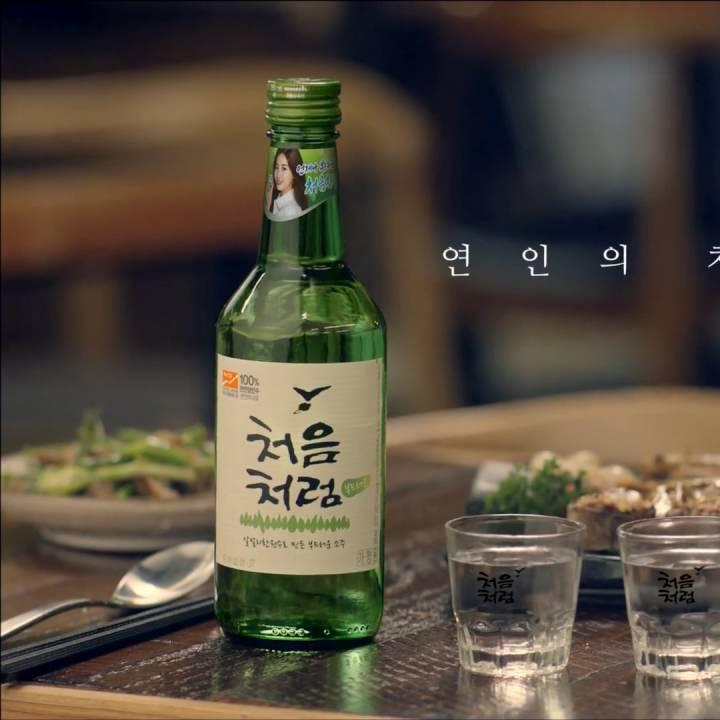soju: (205, 71, 397, 647)
